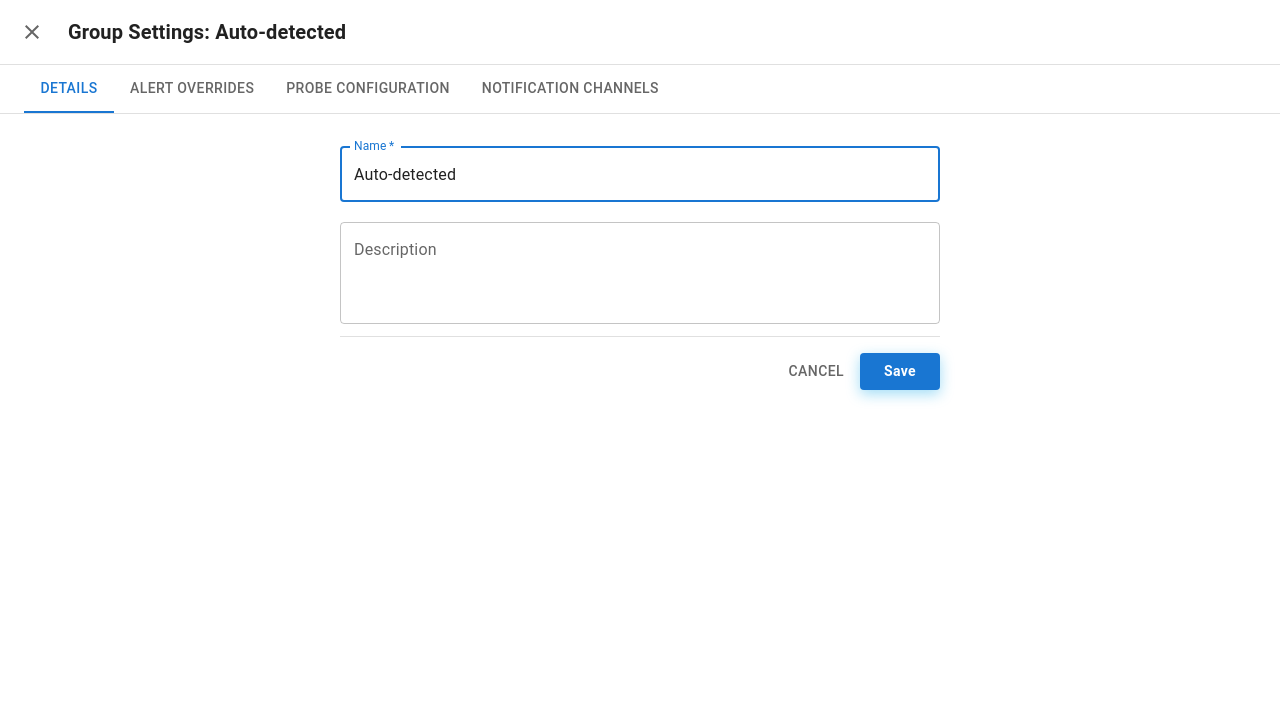
Scenario: GroupDialog › override panels for non-numeric groups › shows info alert instead of ChannelOverridesPanel for auto-detected group
Click the tab "Notification channels" at (570, 89), box [466,65,675,113]
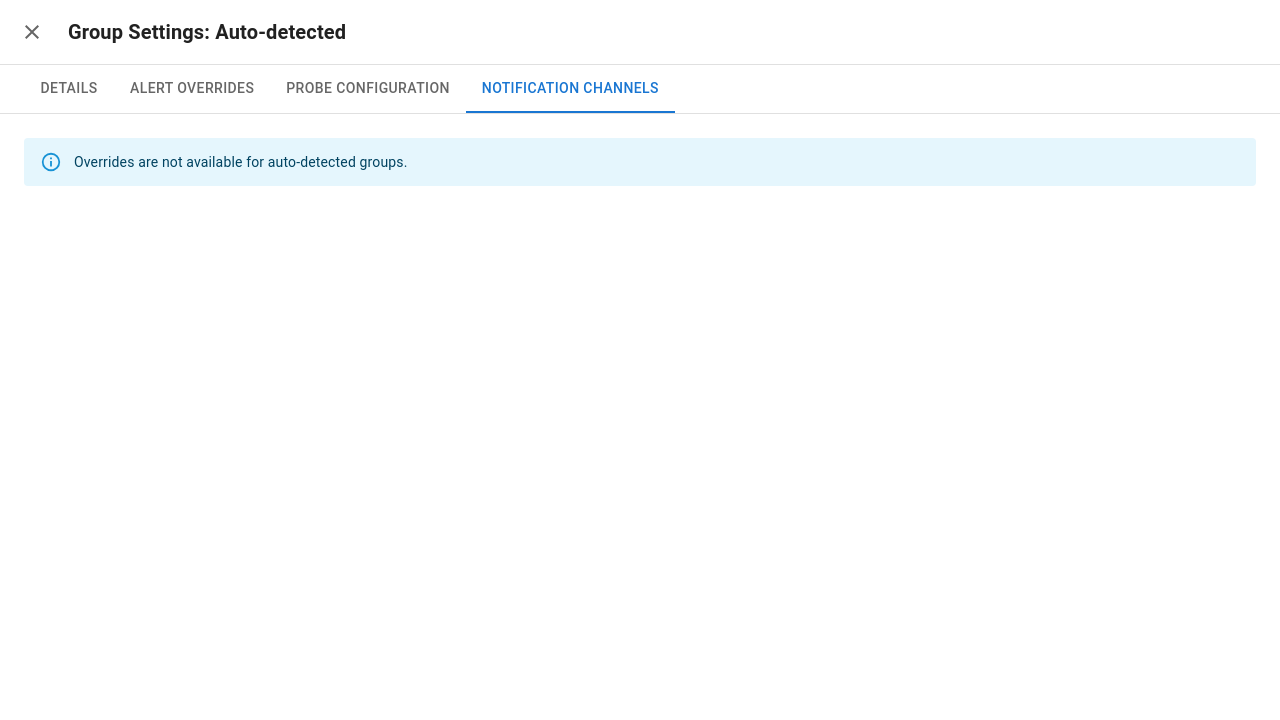
Expected: the text "Overrides are not available for auto-detected groups." is shown, [74,154,408,170]
